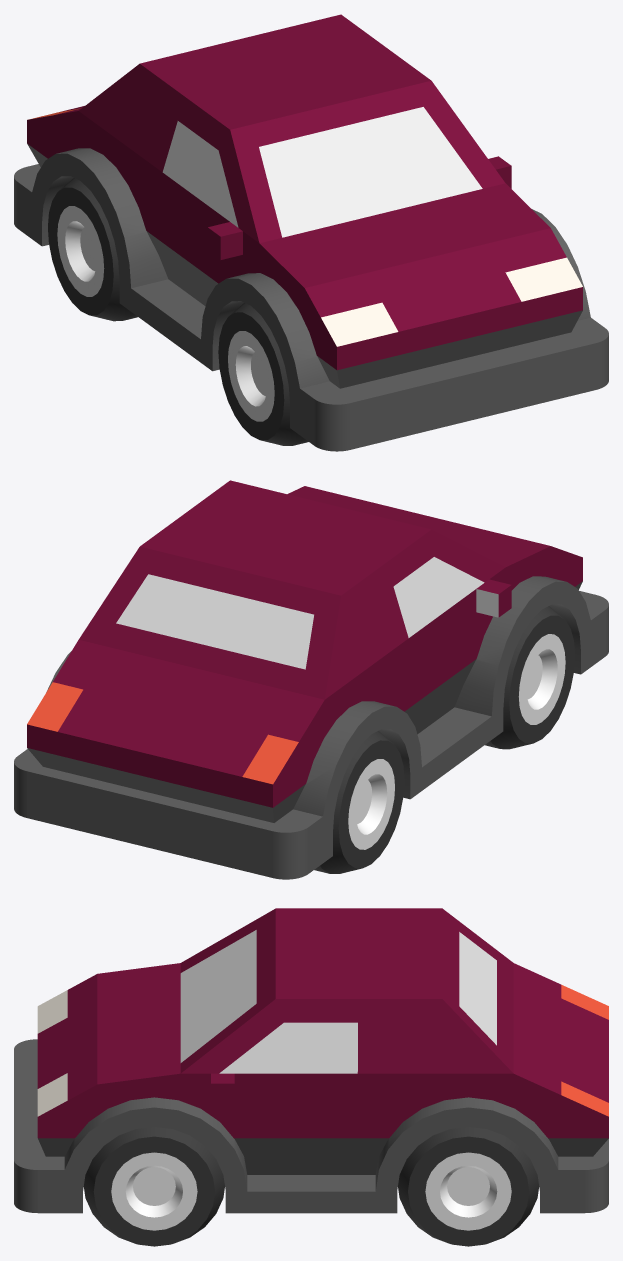
File: sedan_sports_darkred.fbx
3 renders of one model, top to bottom at view 1: azimuth 30°, elevation 25°; view 2: azimuth 150°, elevation 25°; view 3: azimuth 270°, elevation 25°, orthographic. The views are drawn at different scales.
Parts seen in each view (by area): view 1: sedanSports; view 2: sedanSports; view 3: sedanSports.
Part boxes in pixels (x1,y1,x2,y2): sedanSports: (14, 14, 608, 451); sedanSports: (14, 480, 608, 879); sedanSports: (14, 908, 608, 1246).
Size of the model in its own units: 9.75 by 8.25 by 18.75.
